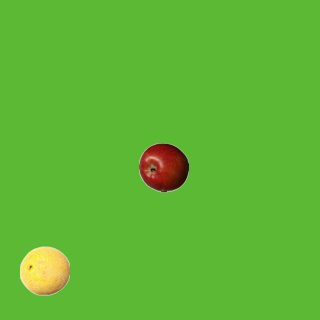Apple Braeburn: (138, 142, 188, 192)
Cantaloupe 1: (19, 245, 69, 295)
